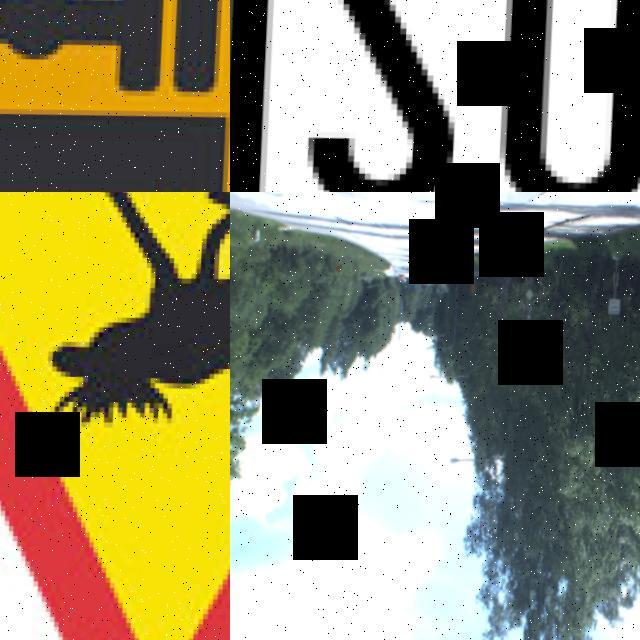22: (0, 0, 230, 192)
57: (523, 289, 536, 305)
speed-limit-120: (230, 0, 640, 192)
warning wild animal: (0, 192, 230, 640)
